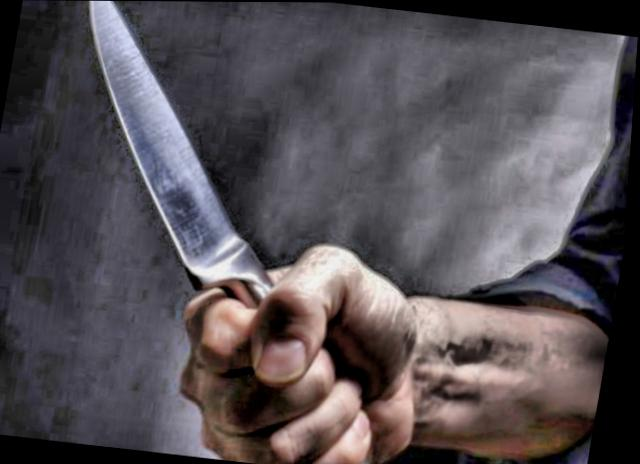knife: (12, 0, 407, 408)
